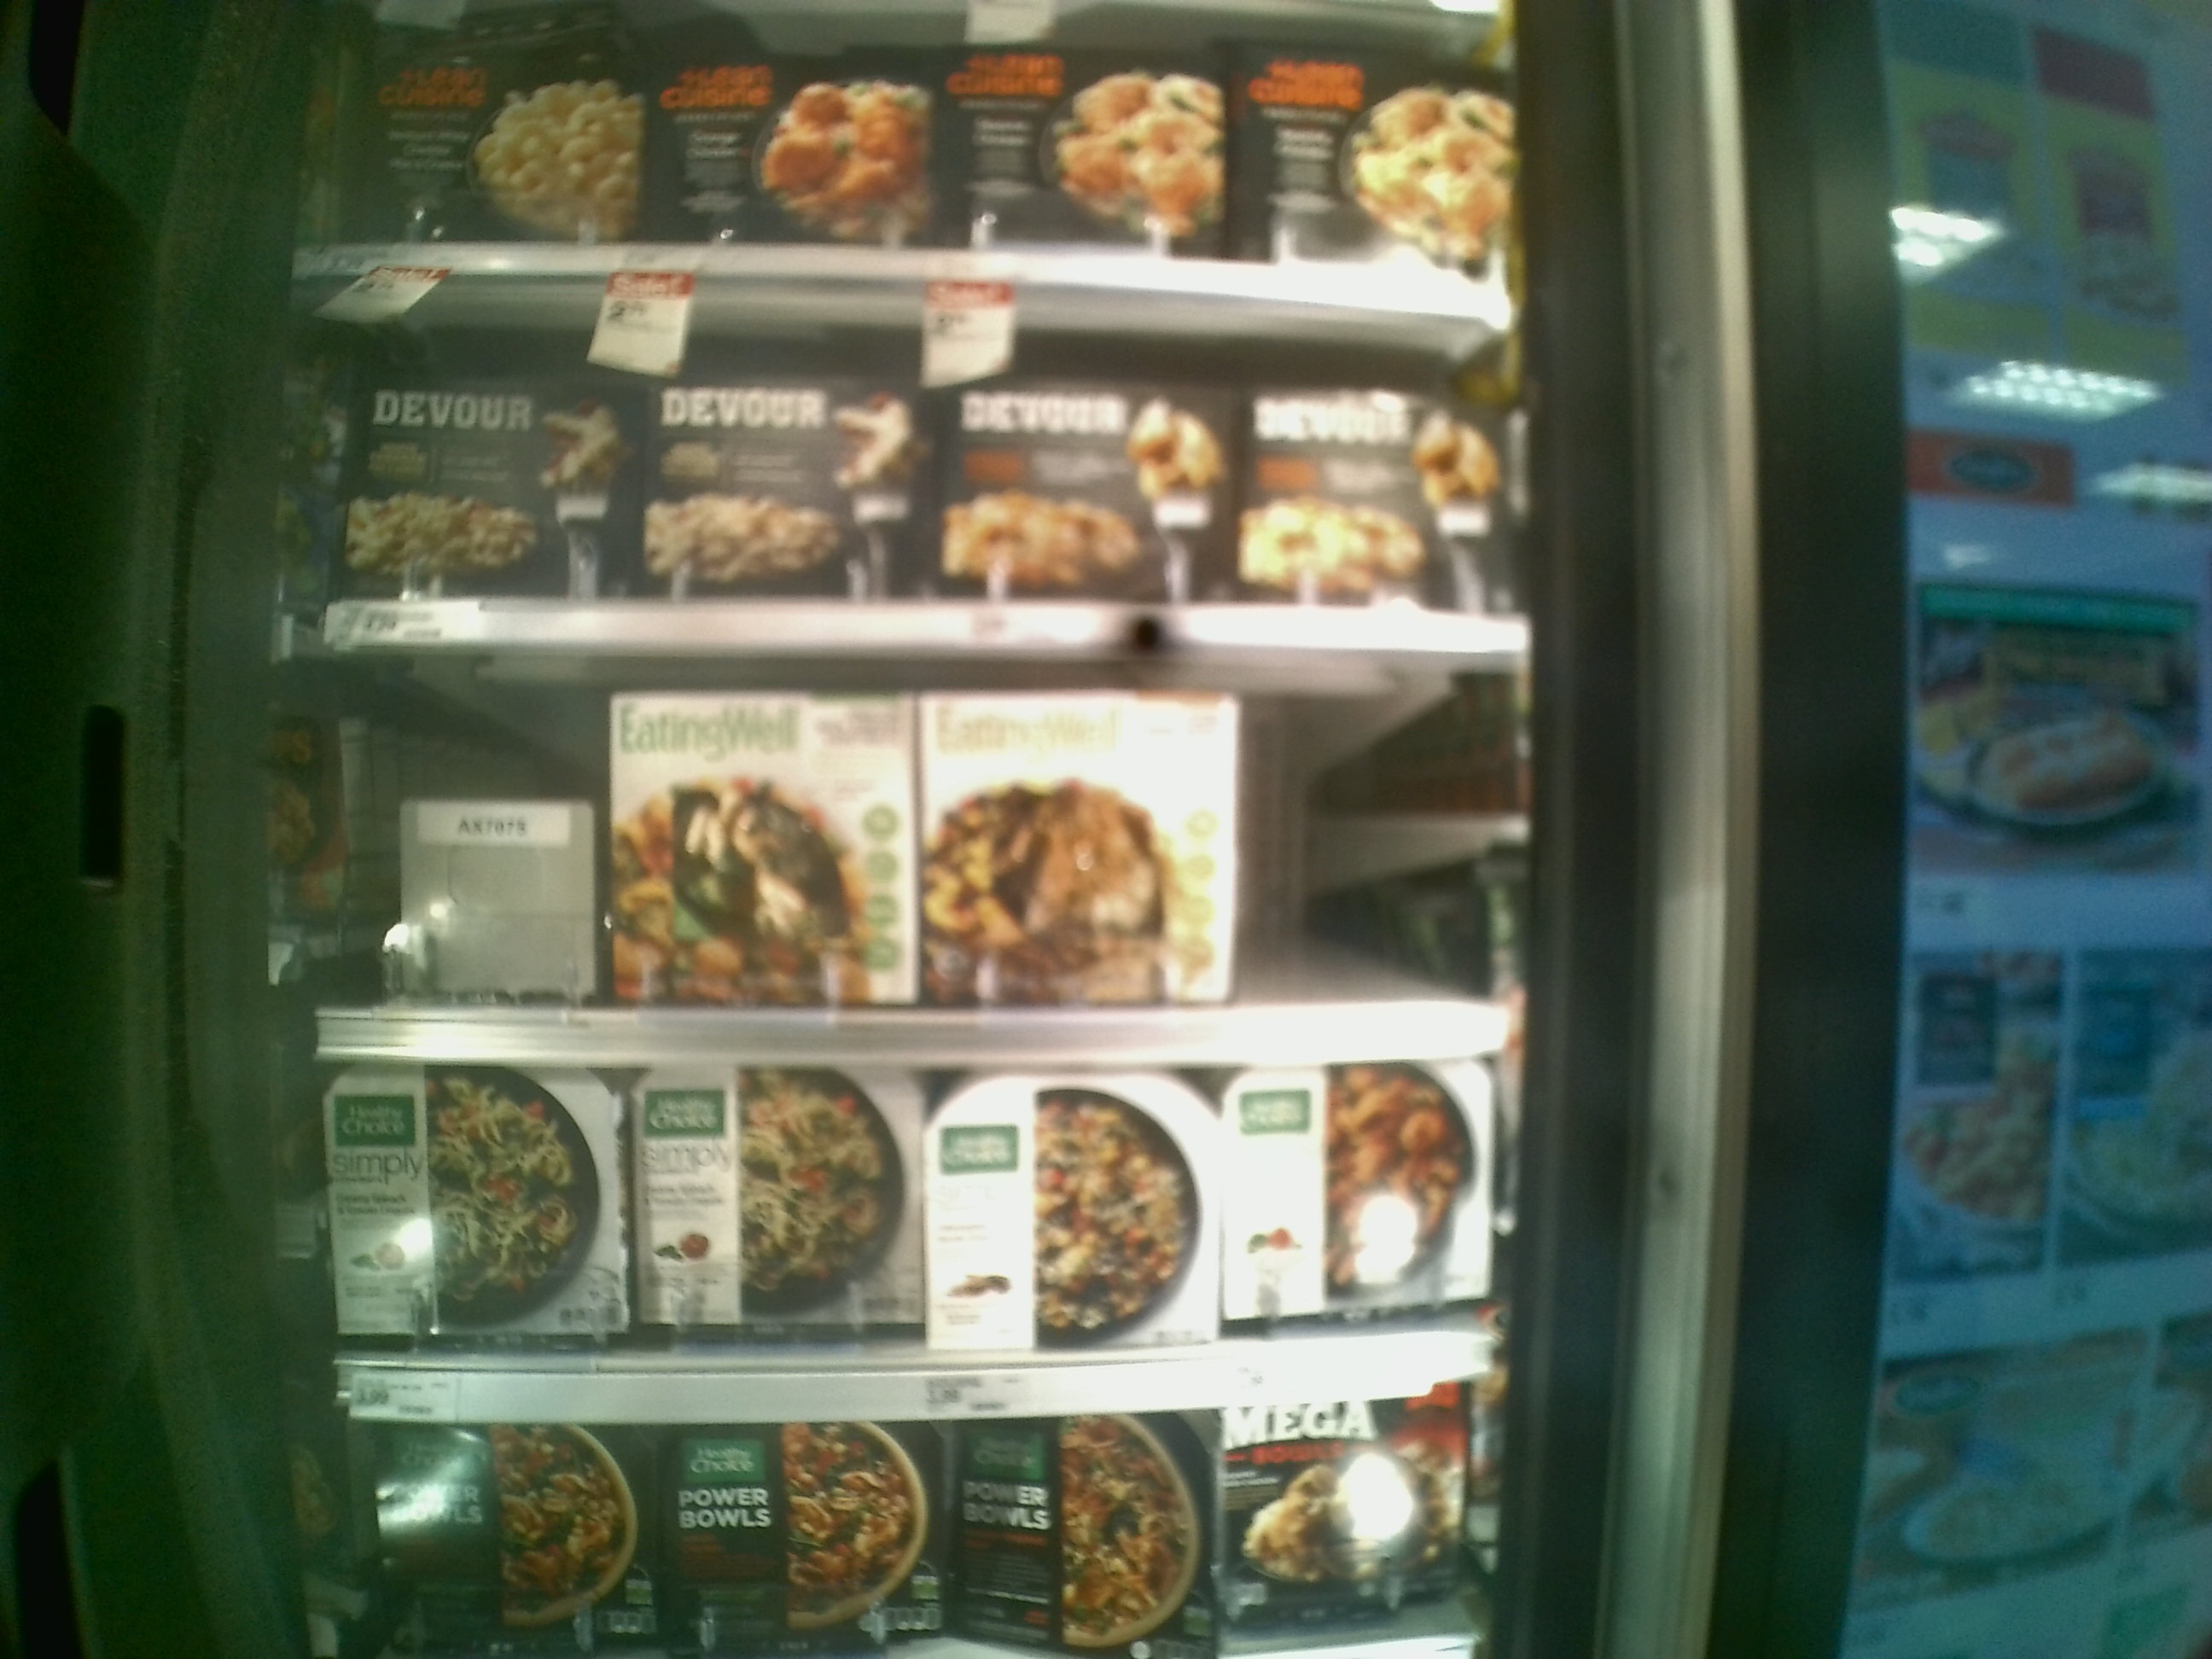shelf: (294, 641, 1524, 1068), (286, 270, 1526, 653), (298, 1049, 1524, 1427)
